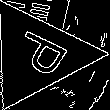P_SE: (2, 26, 73, 83)
